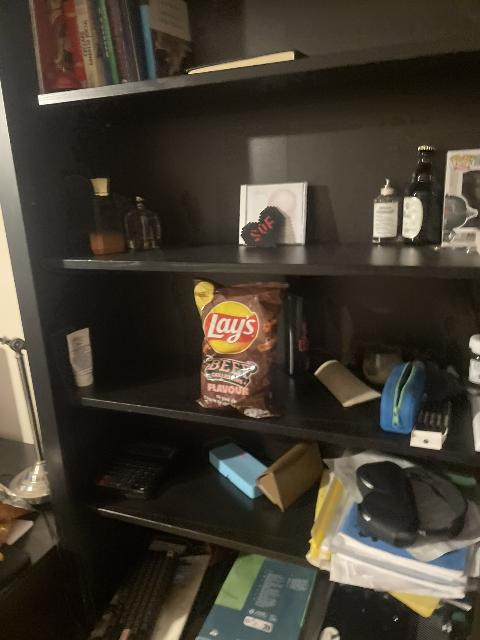Lays Beef Grilled Ribs 125g: (191, 280, 288, 417)
